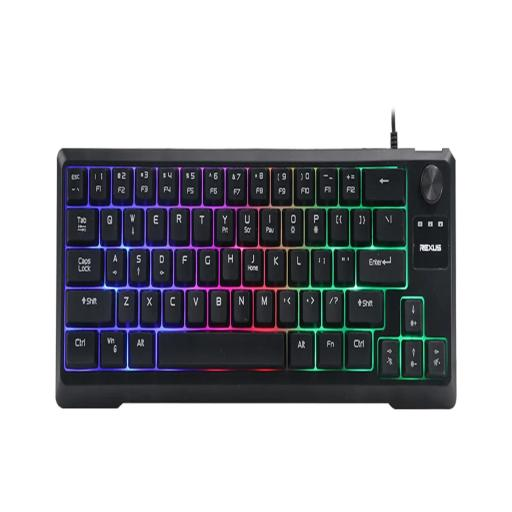KEYBOARD-2: (56, 148, 456, 407)
